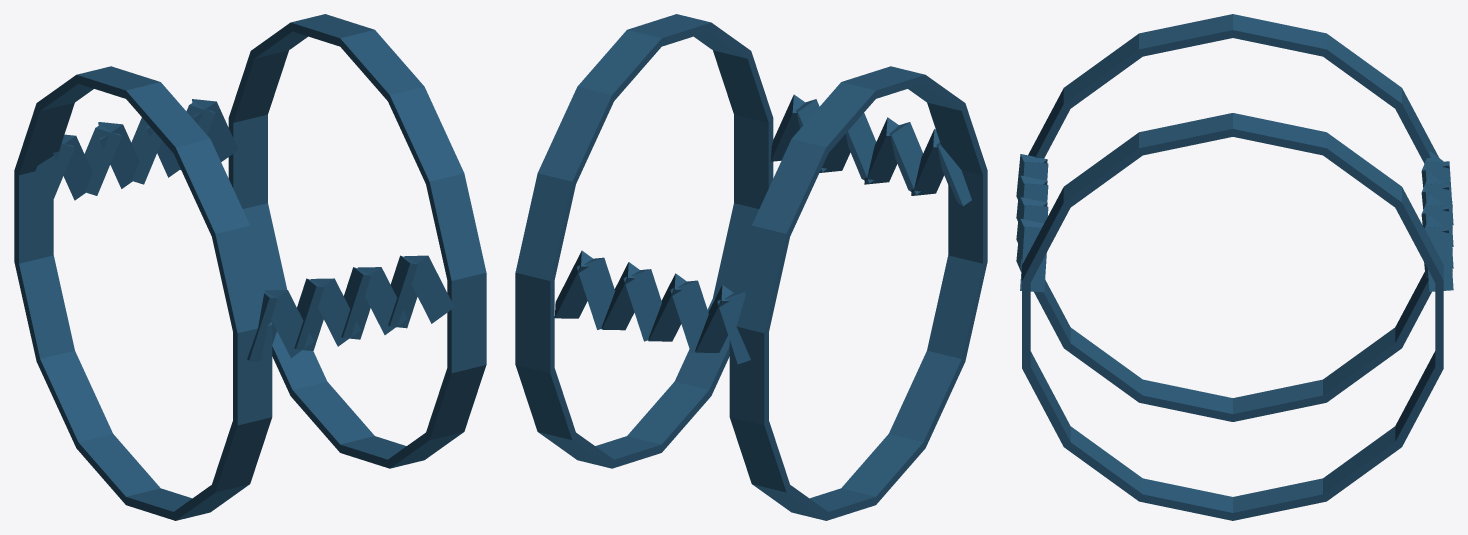
The model's file is saltreaver_arm_r.glb.
3 views of the same model, side by side, from view 1: azimuth 30°, elevation 25°; view 2: azimuth 150°, elevation 25°; view 3: azimuth 270°, elevation 25° (orthographic). The views are drawn at different scales.
Visible parts, largest first — view 1: saltreaver_arm_r; view 2: saltreaver_arm_r; view 3: saltreaver_arm_r.
Part boxes in pixels (x1,y1,x2,y2): saltreaver_arm_r: (14,14,486,520); saltreaver_arm_r: (515,14,987,520); saltreaver_arm_r: (1016,14,1453,520).
Size of the model in its own units: 0.186 by 0.296 by 0.2991.
